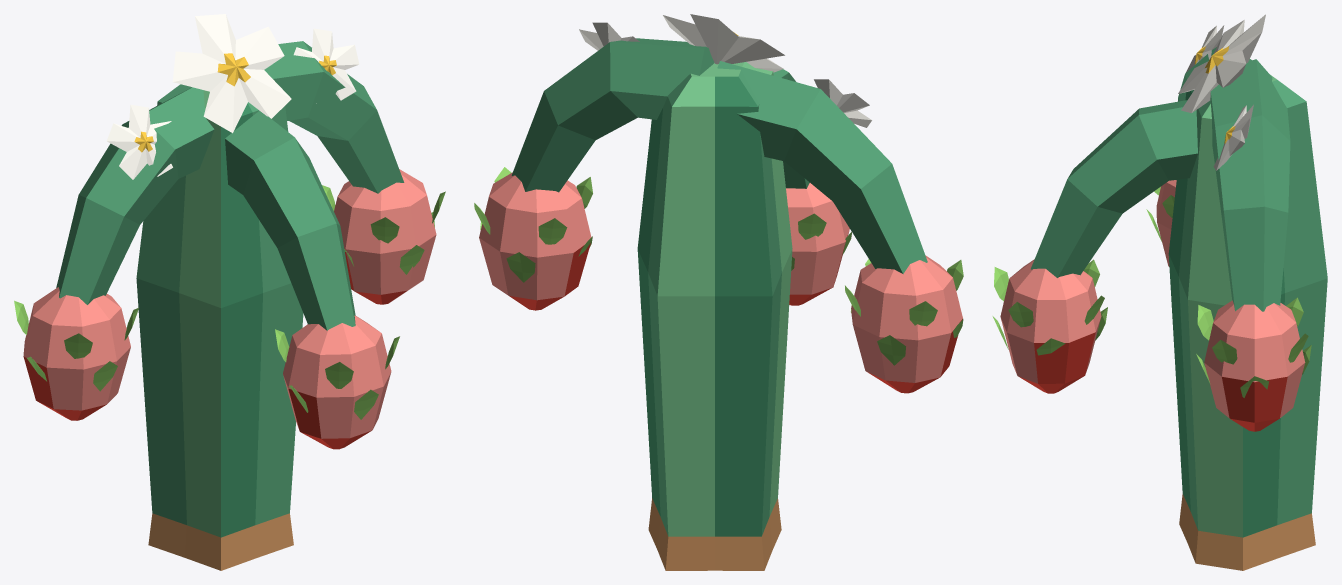
The model's file is 20-dragon-fruit.glb.
3 views of the same model, side by side, from view 1: azimuth 30°, elevation 25°; view 2: azimuth 150°, elevation 25°; view 3: azimuth 270°, elevation 25° (orthographic). The views are drawn at different scales.
Visible parts, largest first — view 1: 20-dragon-fruit_Body; view 2: 20-dragon-fruit_Body; view 3: 20-dragon-fruit_Body.
Part boxes in pixels (x1,y1,x2,y2): 20-dragon-fruit_Body: (14,14,445,570); 20-dragon-fruit_Body: (474,14,963,570); 20-dragon-fruit_Body: (992,14,1327,570).
Size of the model in its own units: 0.6557 by 0.7504 by 0.4401.
Materials: 1 (1 with a texture image).
